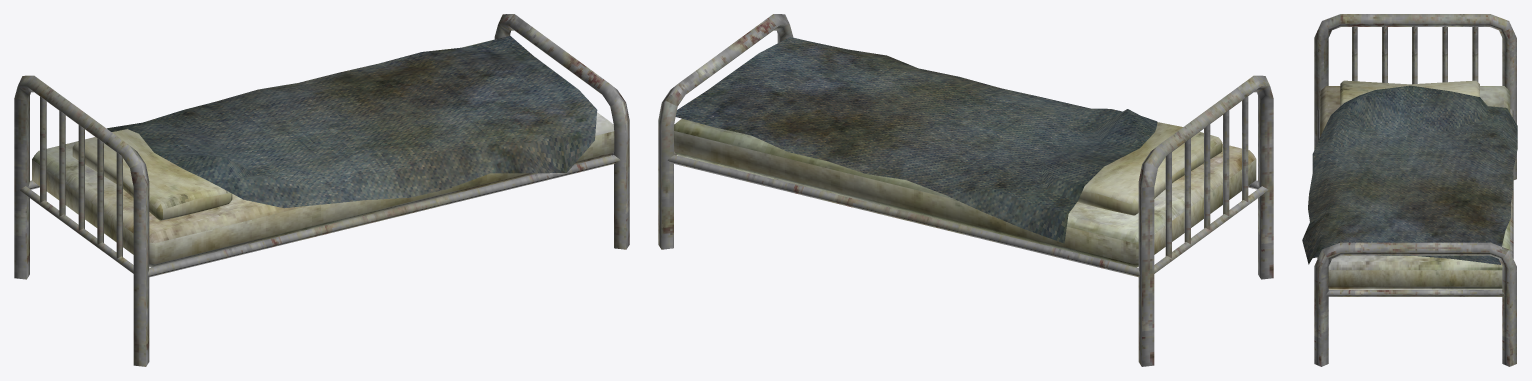
Rendered from _Bed_1_1.FBX.
3 renders of one model, left to right at view 1: azimuth 30°, elevation 25°; view 2: azimuth 150°, elevation 25°; view 3: azimuth 270°, elevation 25°, orthographic. The views are drawn at different scales.
Visible parts, largest first — view 1: _Bed_1_1; view 2: _Bed_1_1; view 3: _Bed_1_1.
Boxes of the visible parts, x1,y1,x2,y2 form: _Bed_1_1: (14, 14, 629, 366); _Bed_1_1: (658, 14, 1273, 366); _Bed_1_1: (1302, 14, 1517, 366).
Bounding box in the file's own units: 187 × 75.31 × 89.11.
3 materials, 3 textured.
